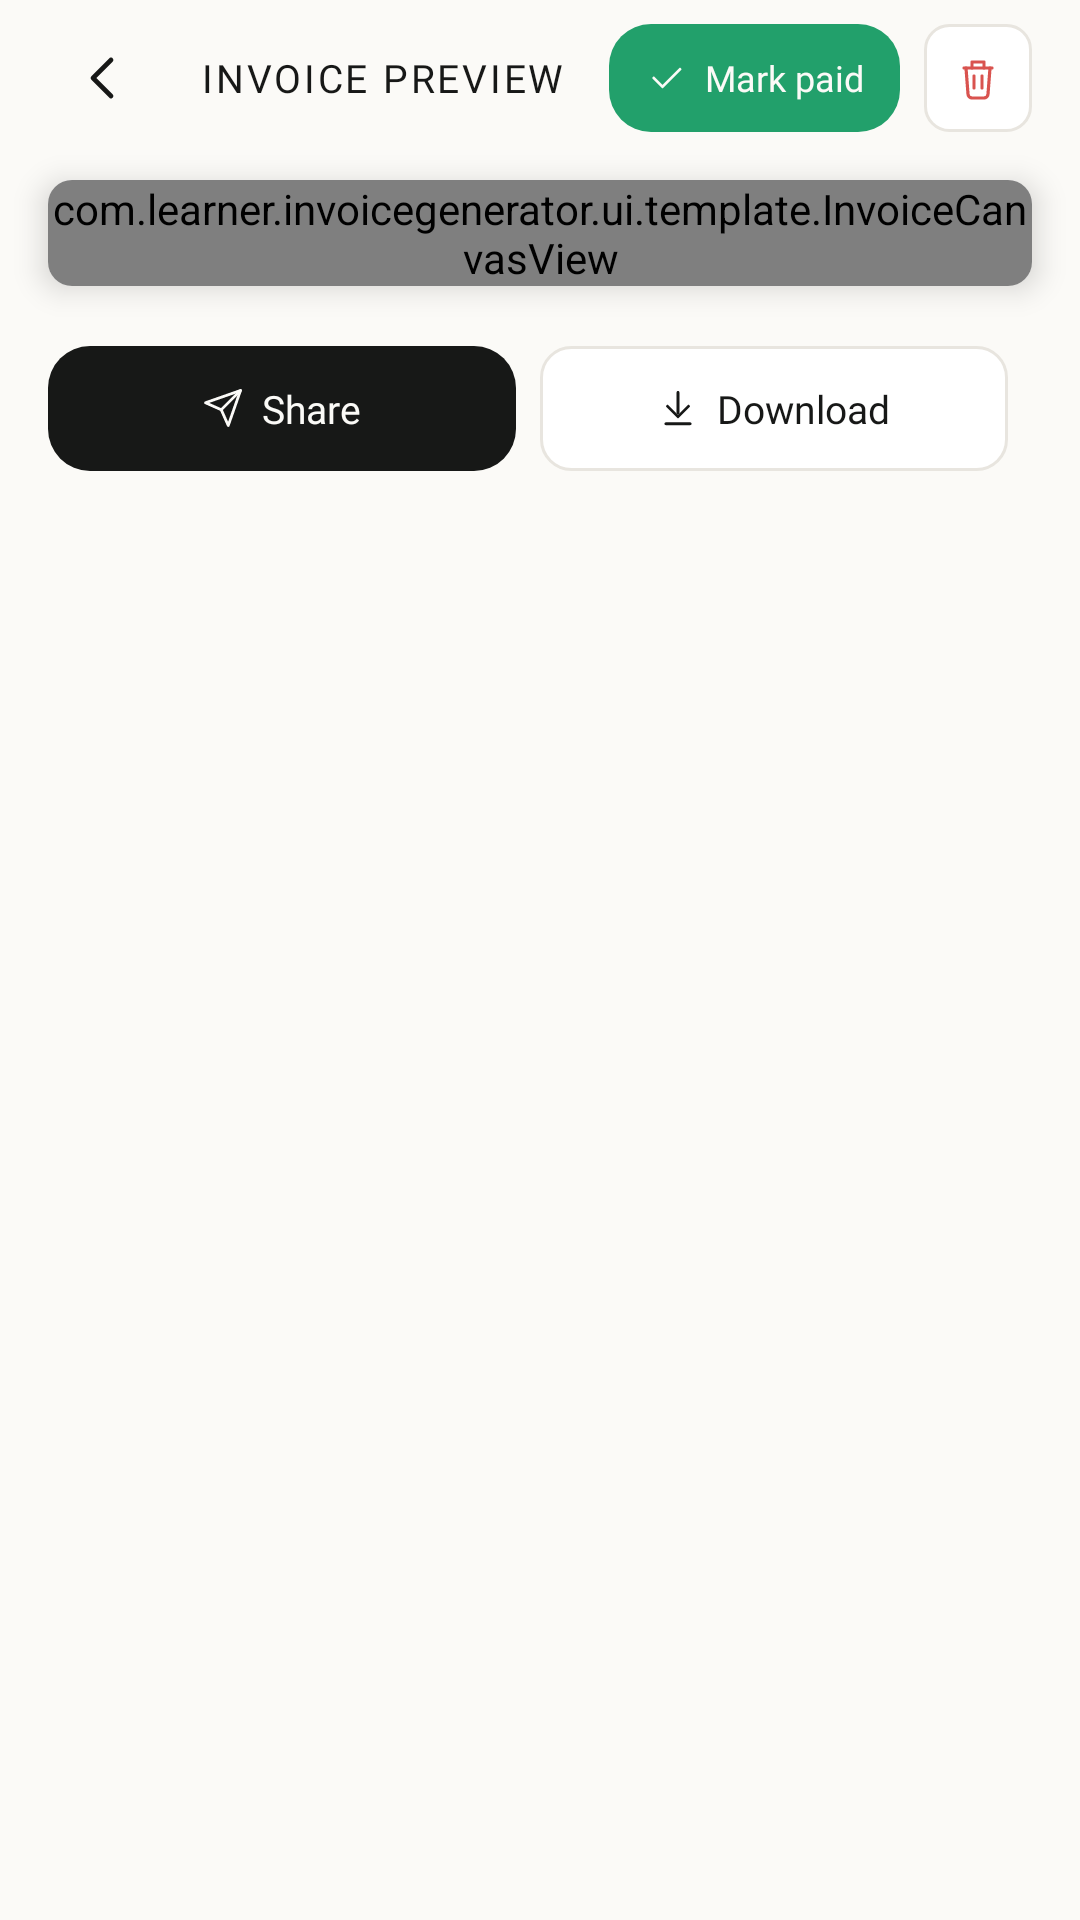

Point at icon controls on the screen. Image size 1080x1920, points as point (x, y).
Back: point (102, 78)
check: point (667, 78)
Delete: point (978, 80)
send: point (223, 408)
